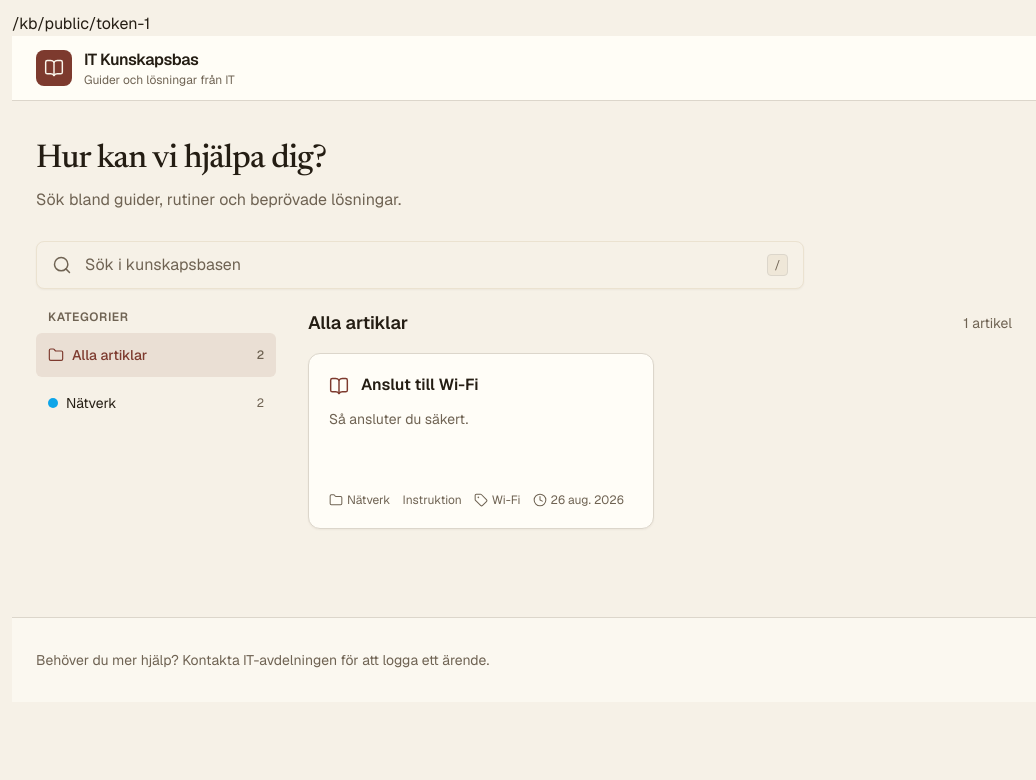
PublicKnowledgeBase › uppdaterar kategori-parametern och hämtar filtrerad lista
Expected: the heading "Anslut till Wi-Fi" is shown, [361,374,479,396]
Click the button "Nätverk 2" at [156, 403], box [36,381,276,425]
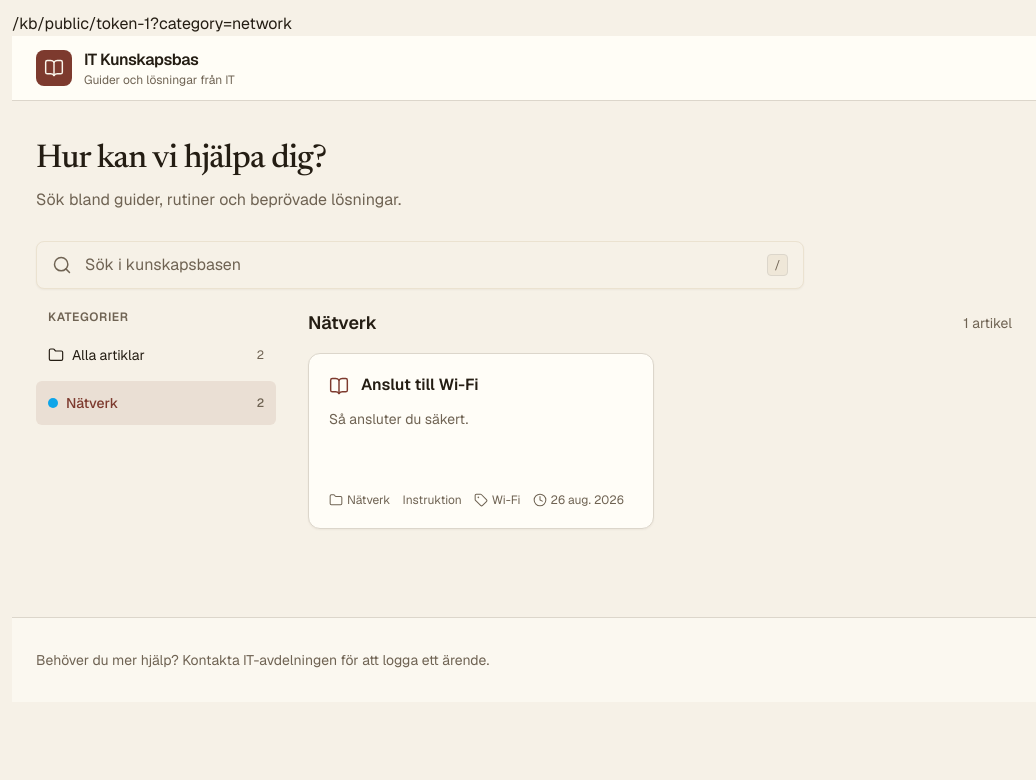
Now the text with test id "location" shows "?category=network", box [150,13,292,34]
